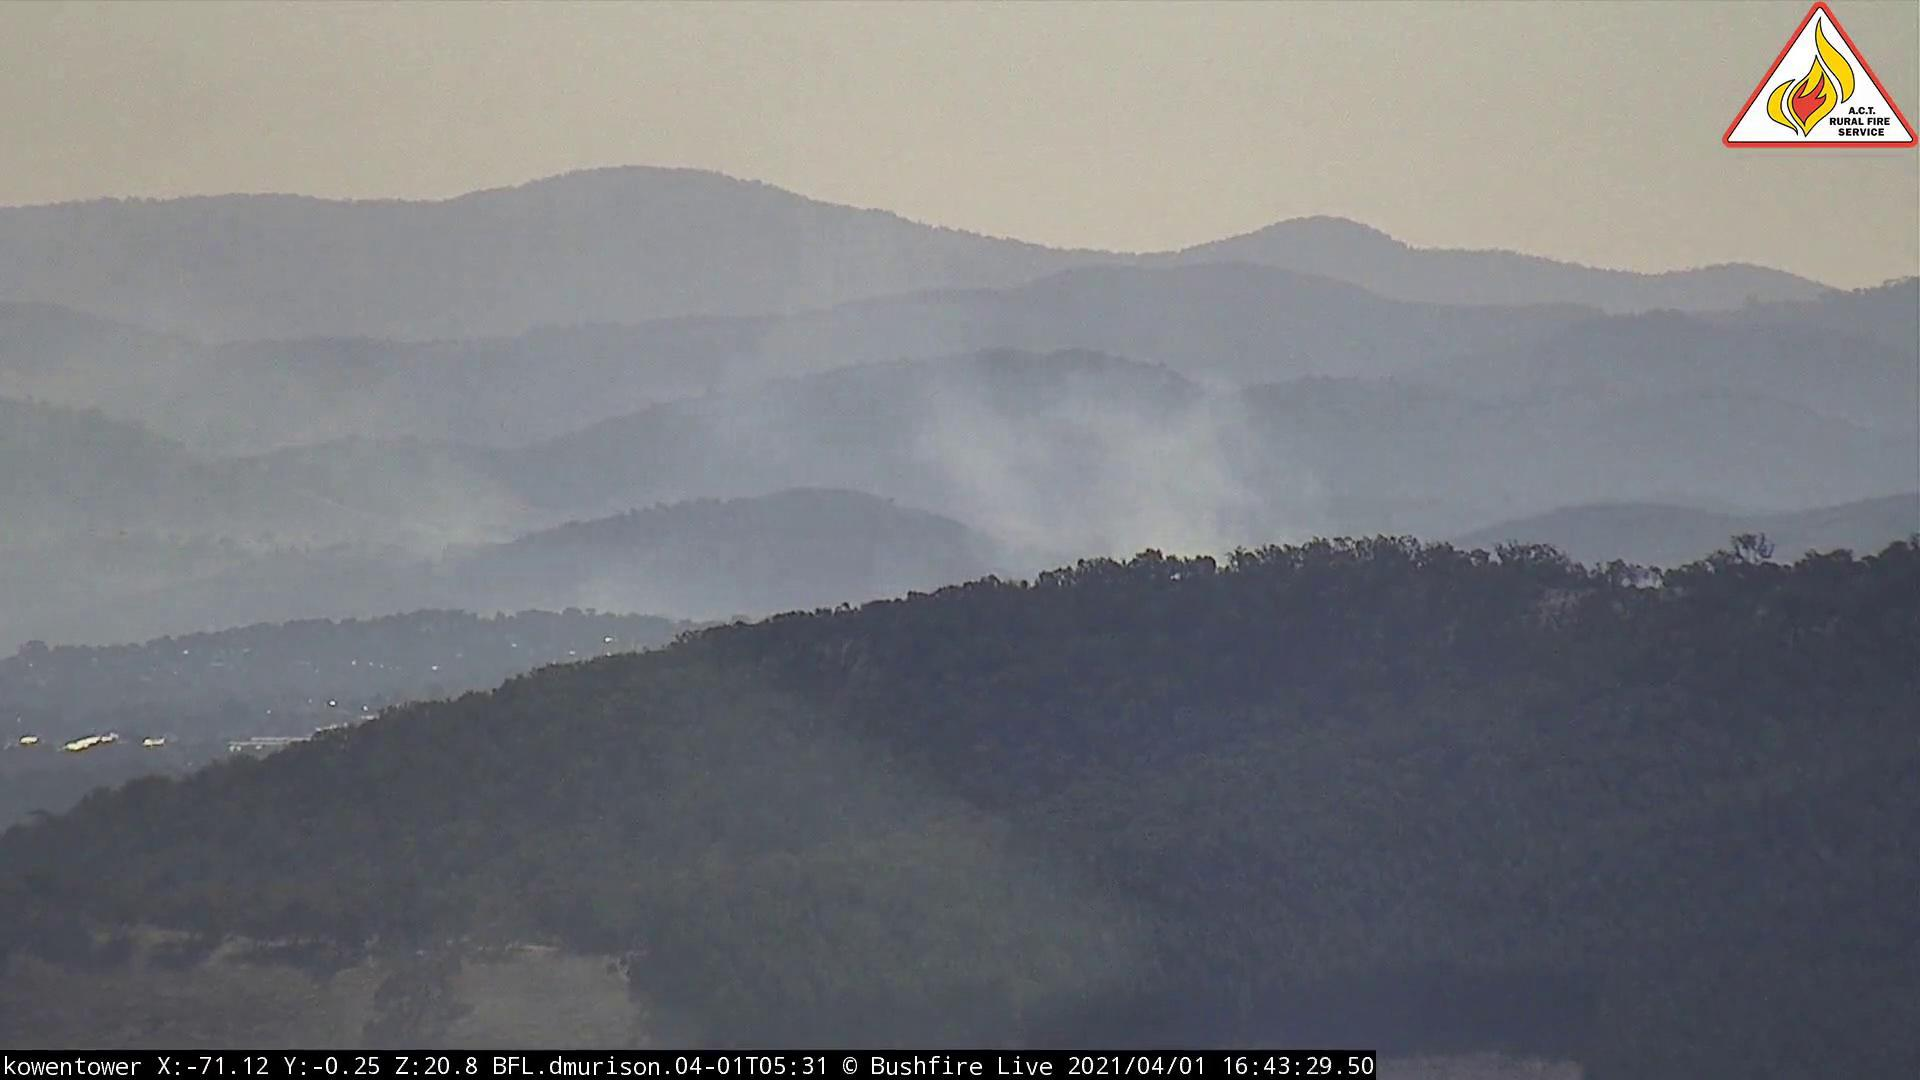instance_salient_object: (615, 182, 1396, 636)
